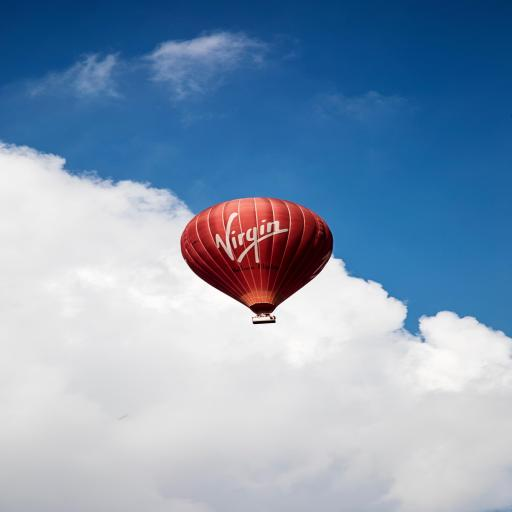hot air ballon: (178, 197, 333, 323)
